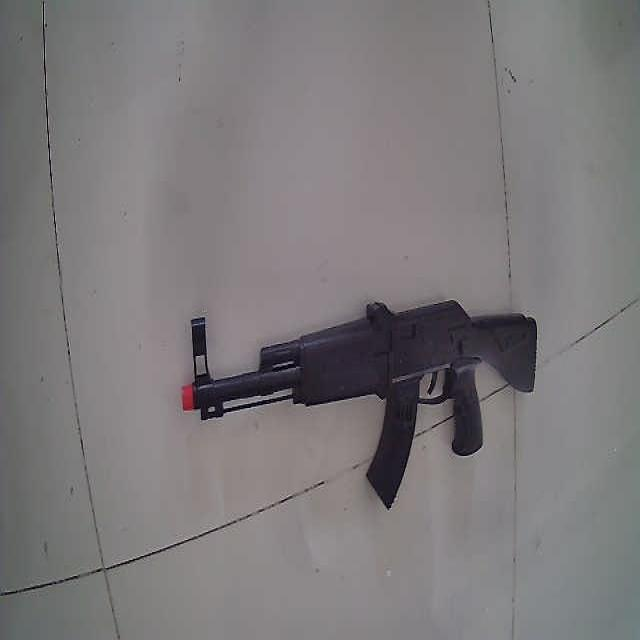rifle: (181, 300, 538, 511)
